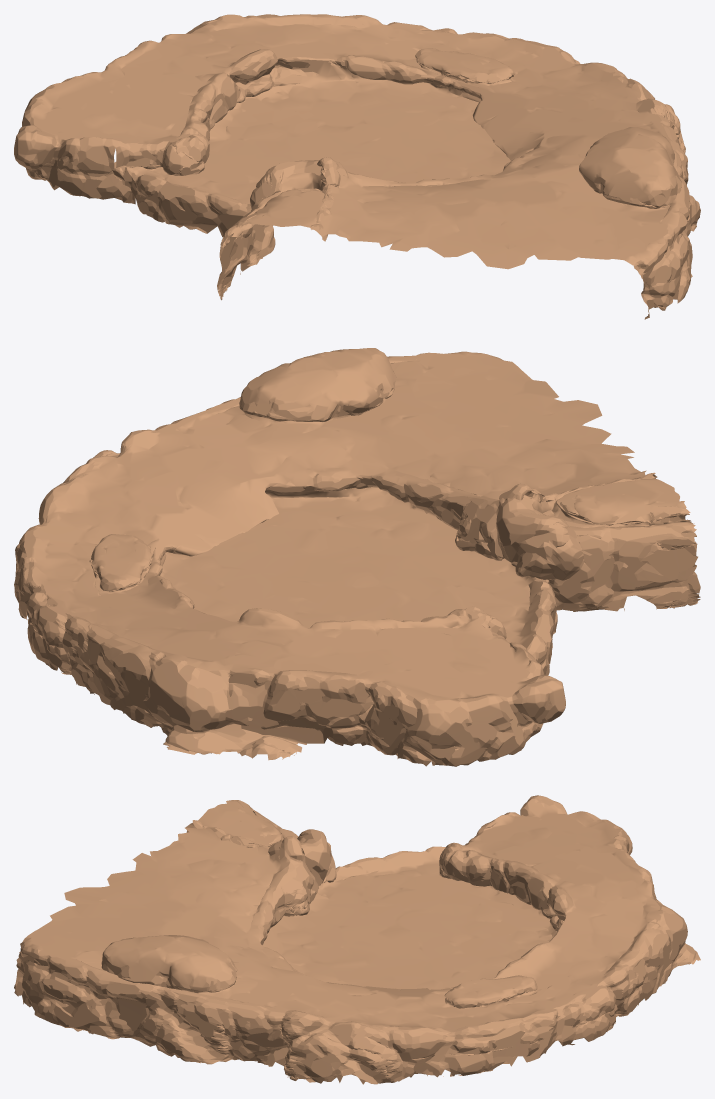
Rendered from SandstoneBig_Mesh_25_001LODs.fbx.
The picture shows the model from 3 angles, top to bottom: view 1: azimuth 30°, elevation 25°; view 2: azimuth 150°, elevation 25°; view 3: azimuth 270°, elevation 25°; orthographic projection. The views are drawn at different scales.
Visible parts, largest first — view 1: Mesh_25.001_LOD0; view 2: Mesh_25.001_LOD0; view 3: Mesh_25.001_LOD0.
Part boxes in pixels (x1,y1,x2,y2): Mesh_25.001_LOD0: (14,14,700,319); Mesh_25.001_LOD0: (14,348,700,766); Mesh_25.001_LOD0: (14,795,700,1084).
Size of what is drawn, in the model's own units: 17324 by 2860 by 20813.
